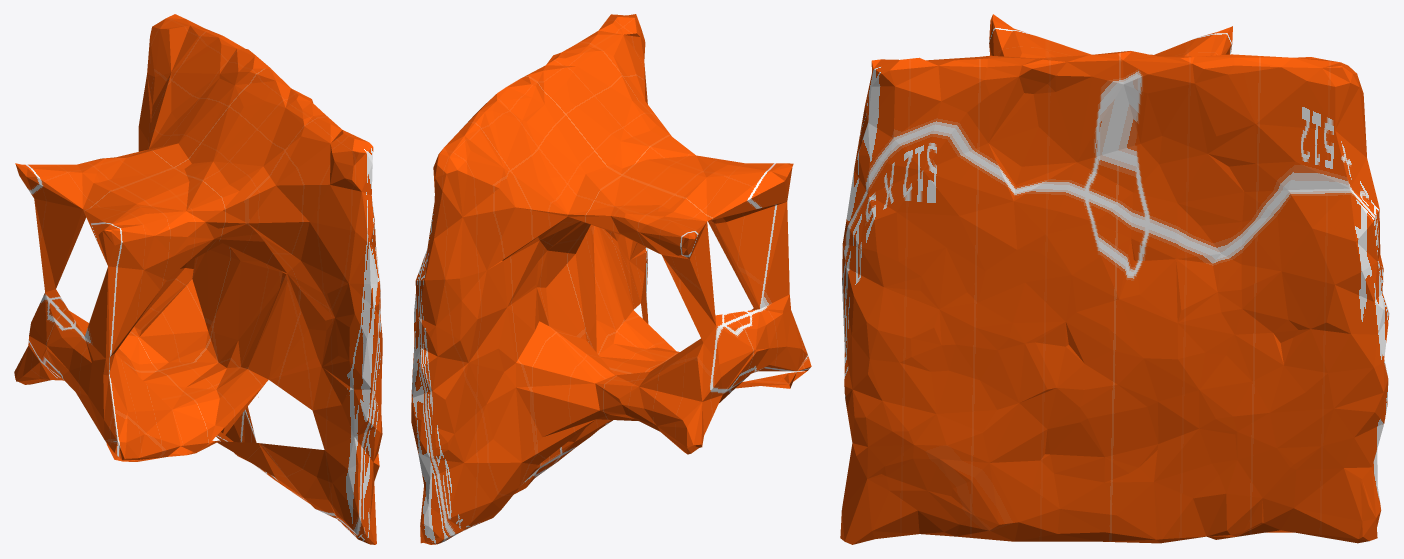
The picture shows the model from 3 angles, left to right: view 1: azimuth 30°, elevation 25°; view 2: azimuth 150°, elevation 25°; view 3: azimuth 270°, elevation 25°; orthographic projection. The views are drawn at different scales.
Parts seen in each view (by area): view 1: Renderer Node; view 2: Renderer Node; view 3: Renderer Node.
Part boxes in pixels (bbox=[...]): Renderer Node: bbox=[14, 14, 382, 544]; Renderer Node: bbox=[411, 14, 811, 544]; Renderer Node: bbox=[840, 14, 1389, 544].
Bounding box in the file's own units: 0.4039 × 0.6382 × 0.6446.
Materials: 1 (1 with a texture image).
